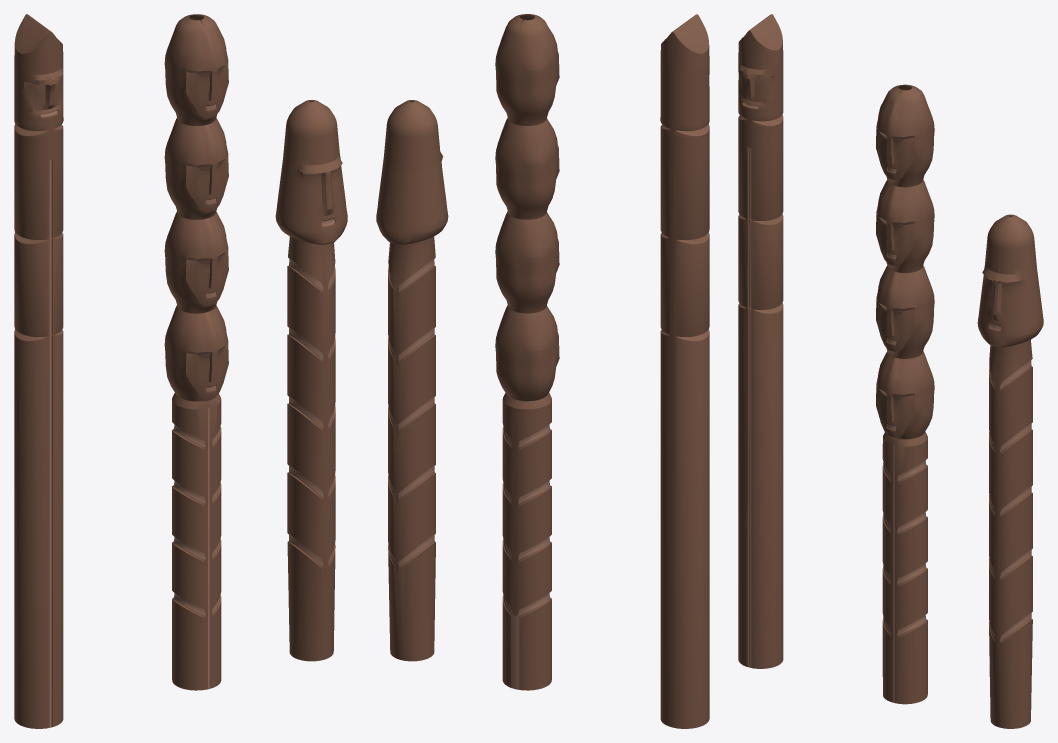
File: totems.fbx
3 renders of one model, left to right at view 1: azimuth 30°, elevation 25°; view 2: azimuth 150°, elevation 25°; view 3: azimuth 330°, elevation 25°, orthographic. The views are drawn at different scales.
Parts seen in each view (by area): view 1: totems; view 2: totems; view 3: totems.
Boxes of the visible parts, x1=… form: totems: x1=14, y1=14, x2=347, y2=728; totems: x1=376, y1=14, x2=709, y2=728; totems: x1=738, y1=14, x2=1043, y2=728.
Size of the model in its own units: 88.65 by 181 by 17.55.
